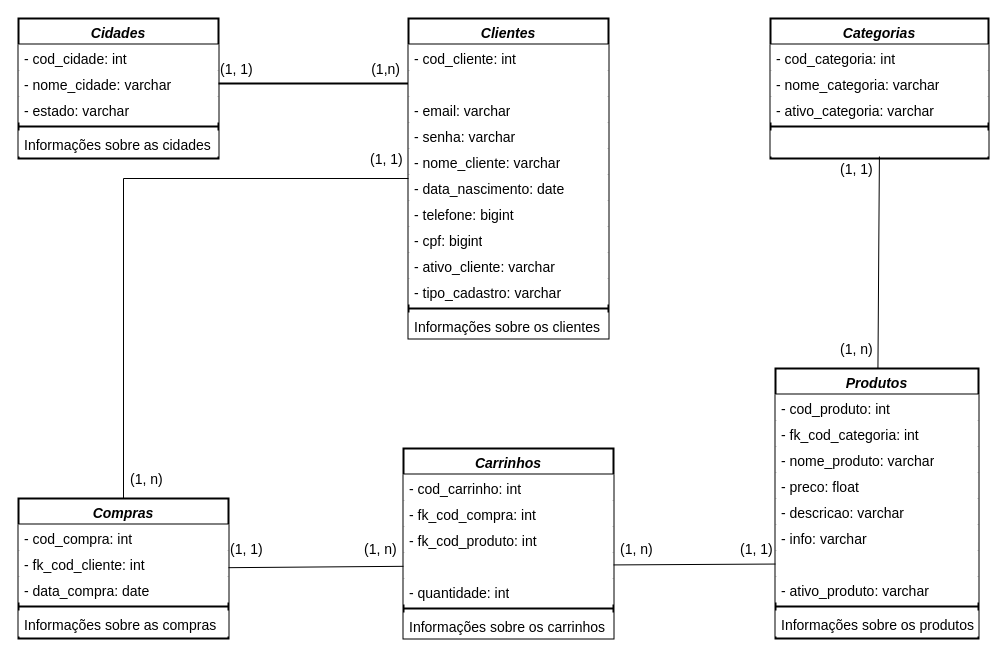
This 1006x658 diagram has some shape labels left out. Here are the shapes that lost their labels. From the top down, the centre of each, then its label:
At point 508,83: "- fk_cod_cidade: int".
At point 879,143: "Informações sobre as categorias".
At point 508,565: "- preco_prod: float".
At point 876,563: "- imagem: varchar".
